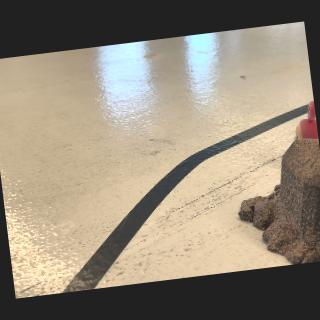teletubby: (294, 101, 318, 140)
